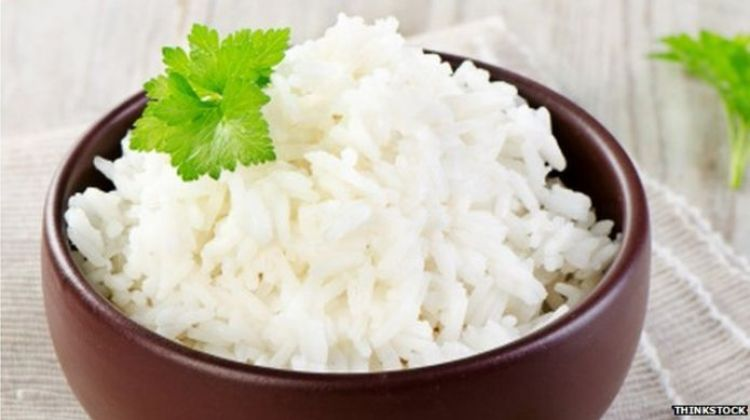Nasi Putih: (81, 36, 635, 384)
